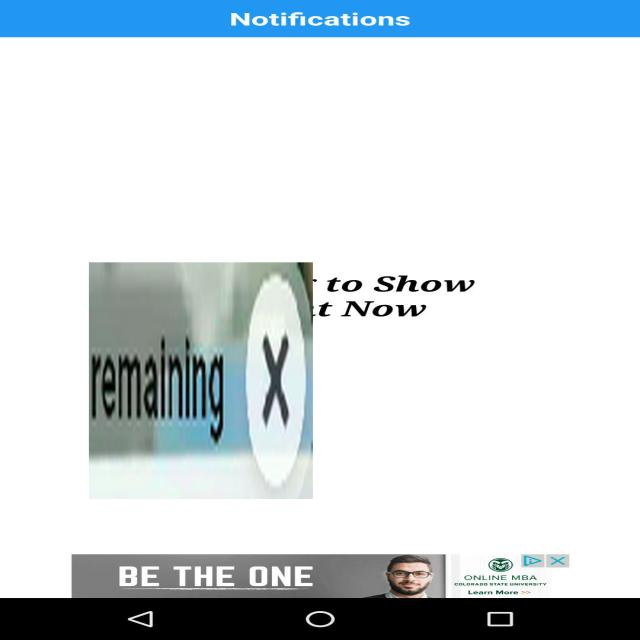misdirection: (89, 262, 313, 499)
